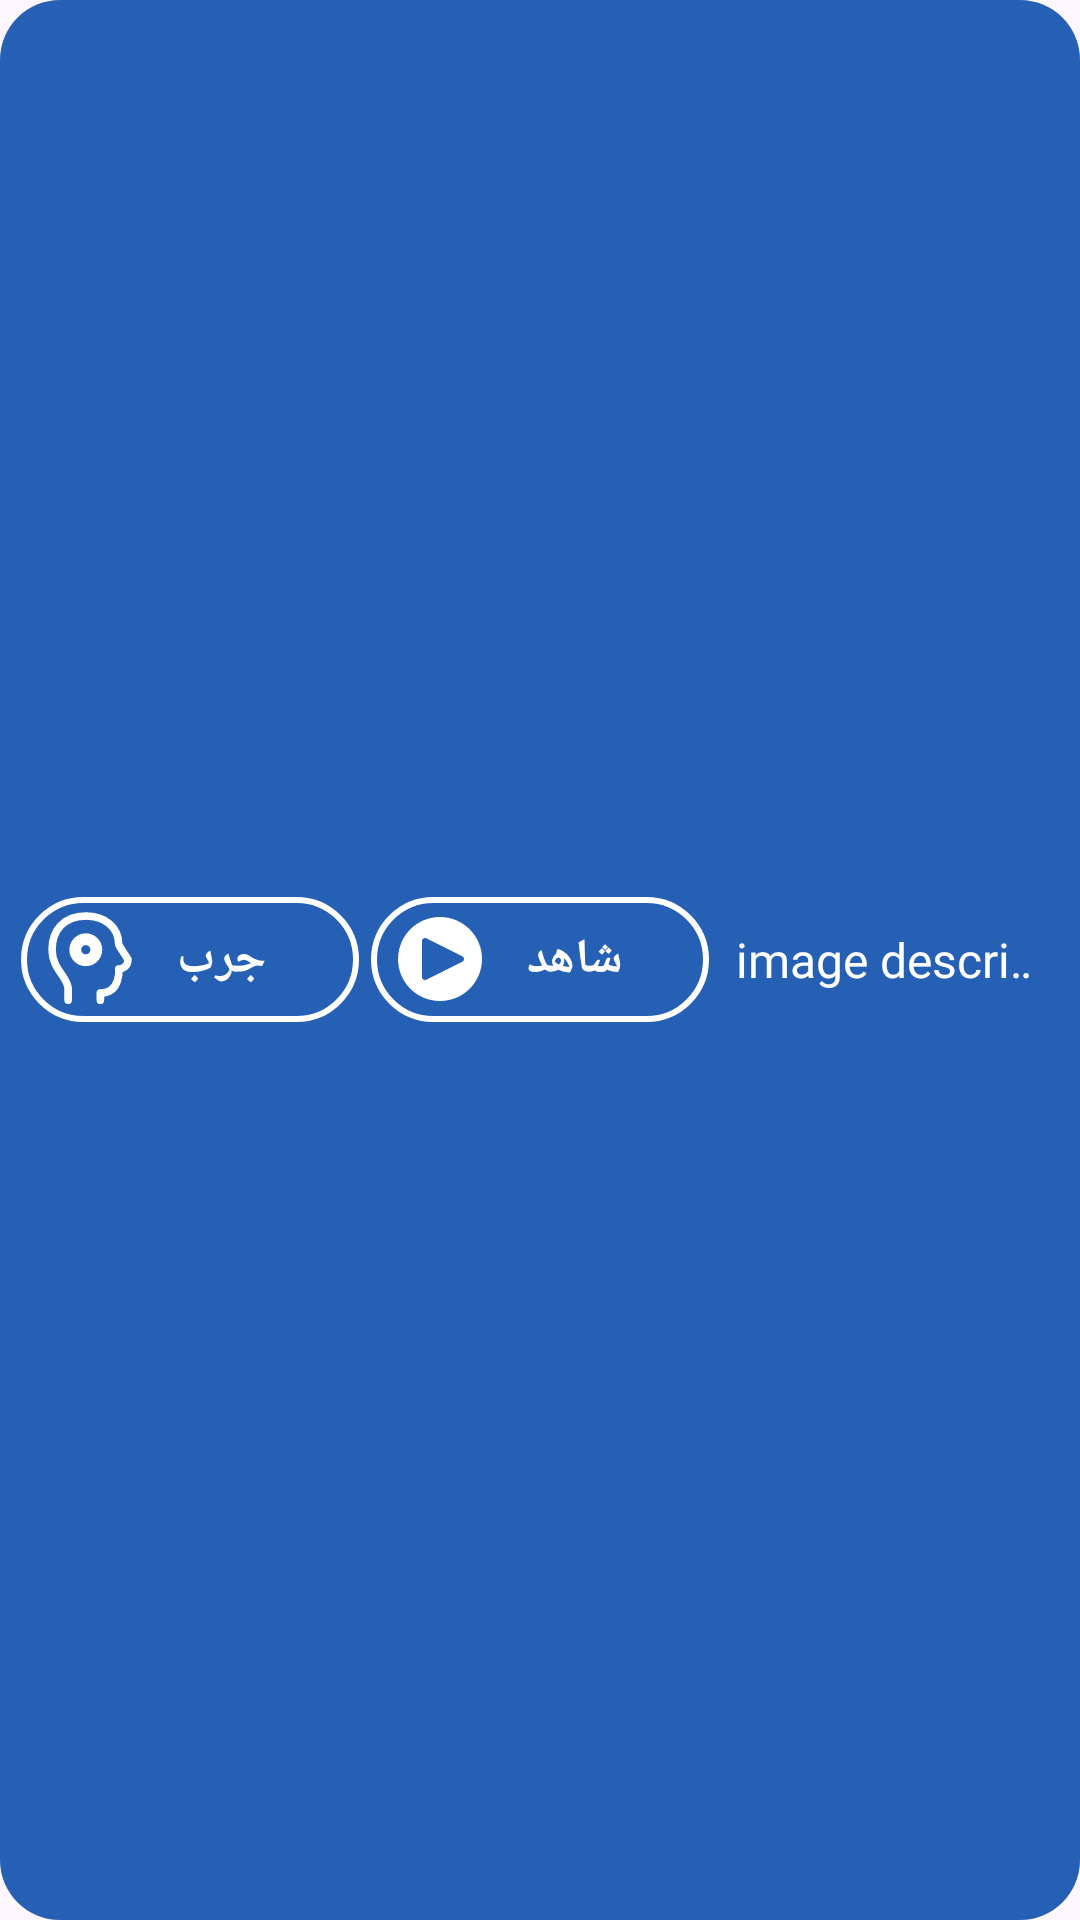

Locate icon controls on the screen. Image size 1080*1920, boxes as bbox=[x1, y1, x2, y2].
play: bbox=[398, 917, 482, 1001]
